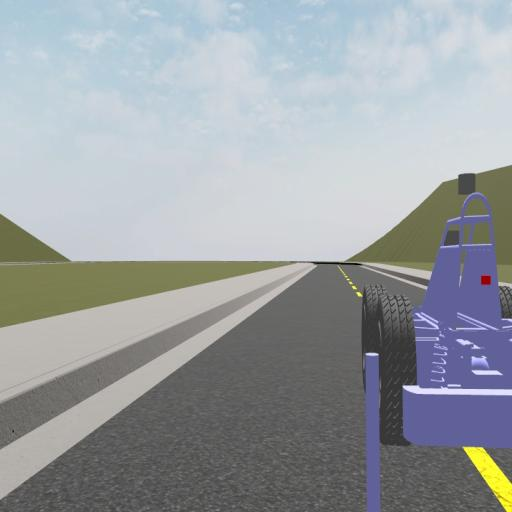ERP-42: (357, 178, 512, 504)
